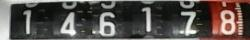digits: (179, 10, 196, 37), (219, 9, 236, 36), (98, 11, 115, 37), (59, 11, 76, 36), (140, 6, 152, 33), (22, 9, 32, 36)
